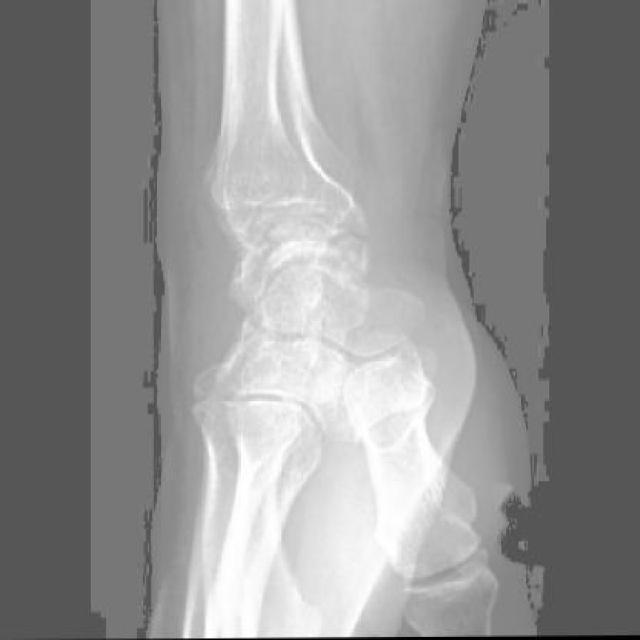Fracture: (225, 198, 376, 292)
